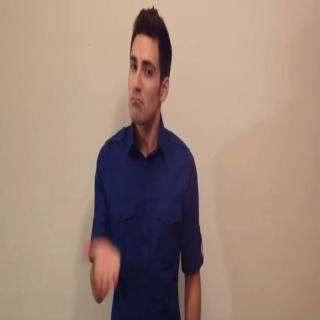ThankYou: (85, 3, 204, 320)
